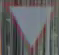Give way: (4, 2, 57, 47)
